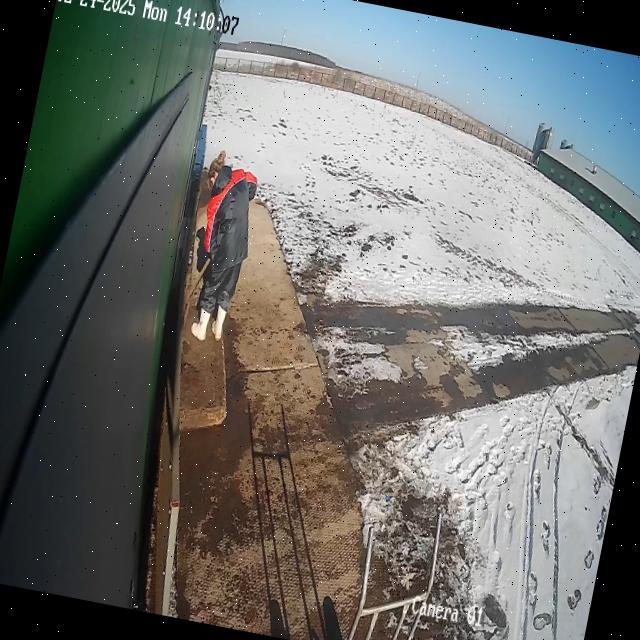Red uniform: (176, 160, 265, 350)
